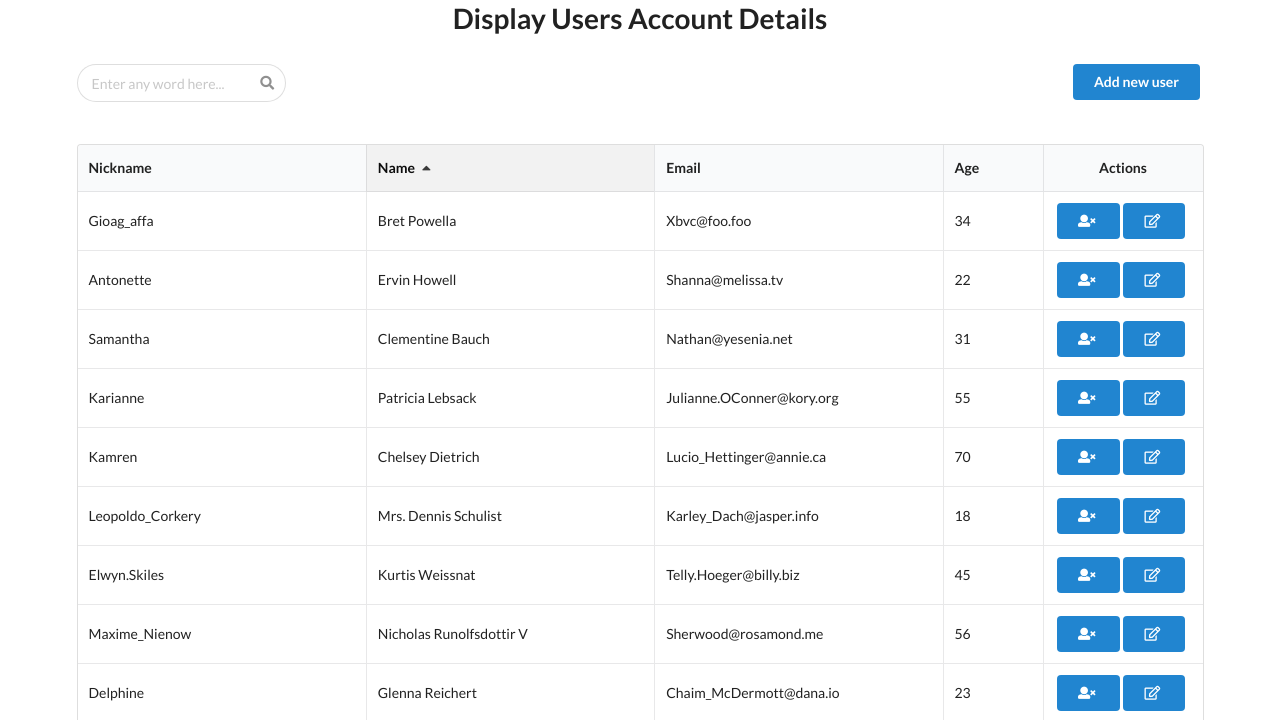
User list › to edit a user › should open a modal to insert a user record
Click the button with test id "new-user-btn": (1137, 82) [1073, 64, 1200, 100]
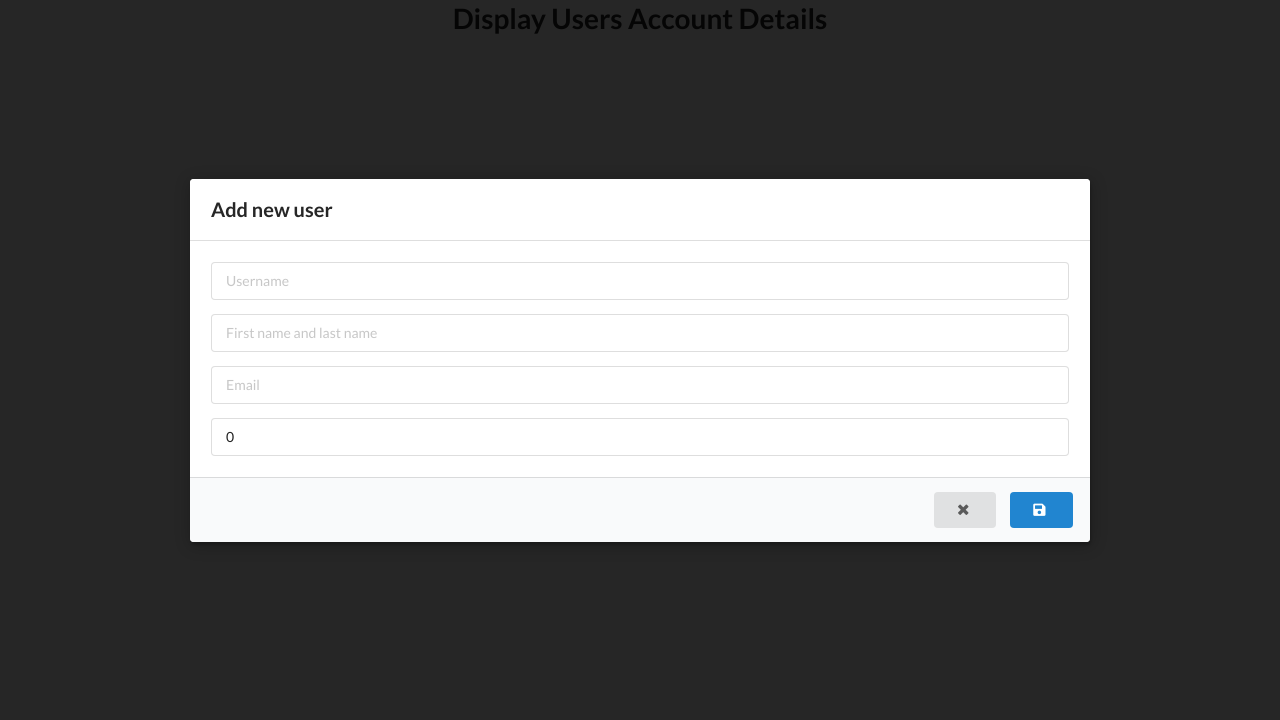
expect the number of elements with test id "user-from-modal" is 1: met, box [190, 179, 1090, 542]
expect the field with placeholder "Username" is enabled: met, box [211, 261, 1069, 299]
